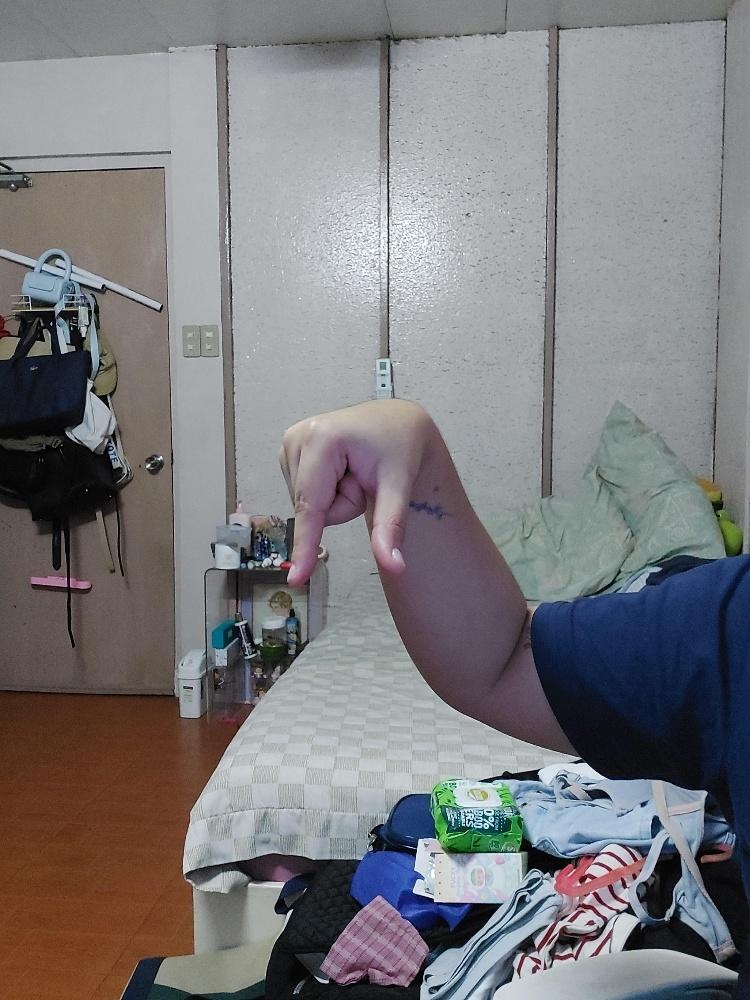q: (277, 396, 431, 587)
